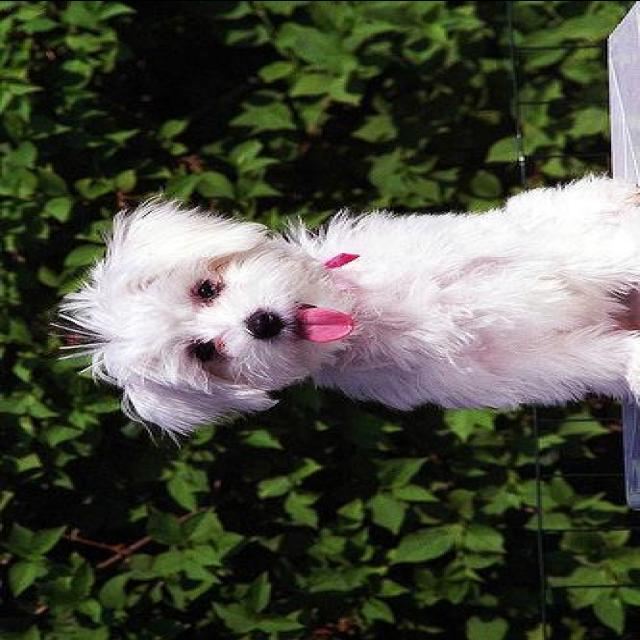maltese_dog: (58, 177, 638, 430)
